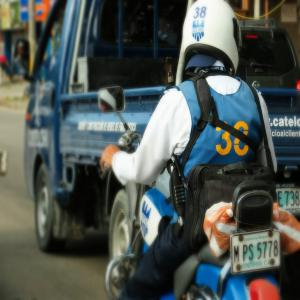Vehicle-registration-plate: (232, 231, 282, 275), (277, 188, 300, 215)
